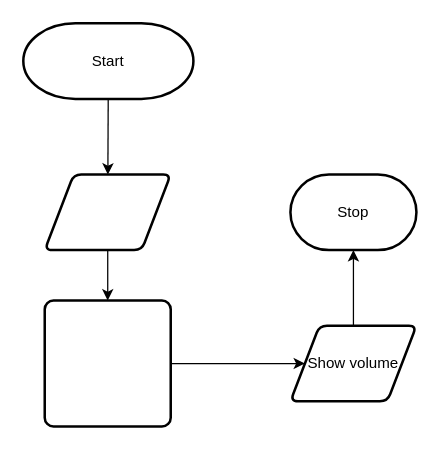
The diagram is 438 pixels wide and 449 high, and some of its shapes have lost their labels. Each missing label, with the box of its shape:
Input radius: (43, 173, 171, 251)
Volume = 4/3 x π x r 3: (43, 299, 171, 427)
